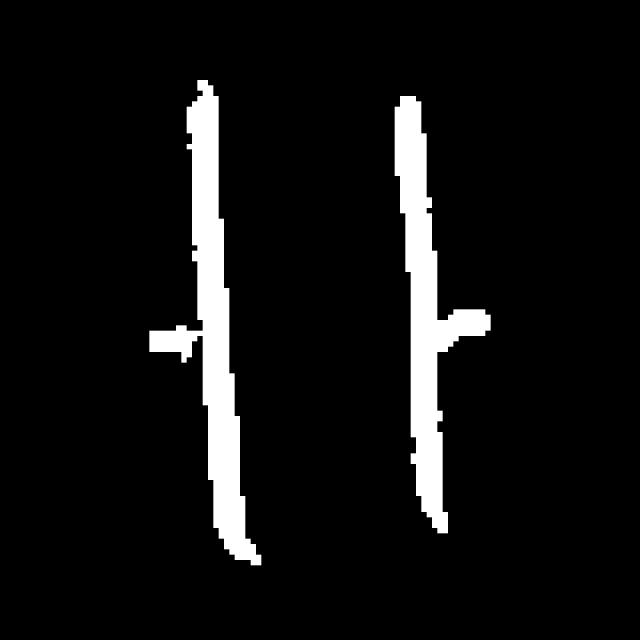capacitor: (178, 62, 462, 584)
